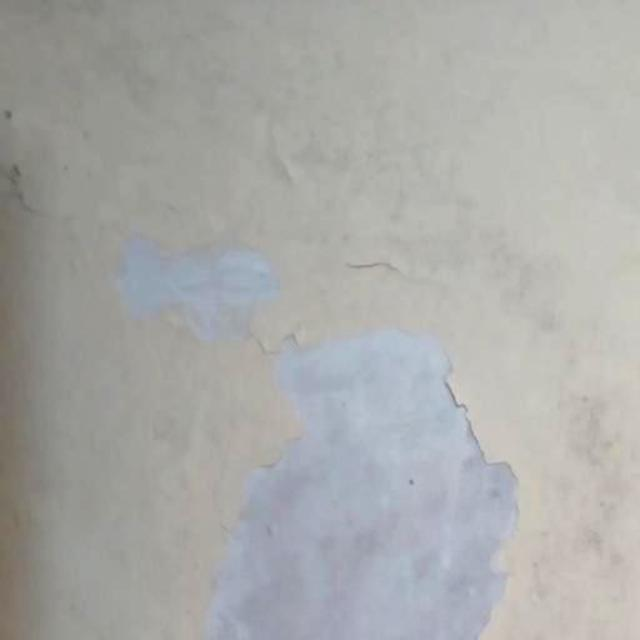wall_peeling: (0, 0, 638, 640), (202, 325, 520, 639), (114, 232, 284, 346)
